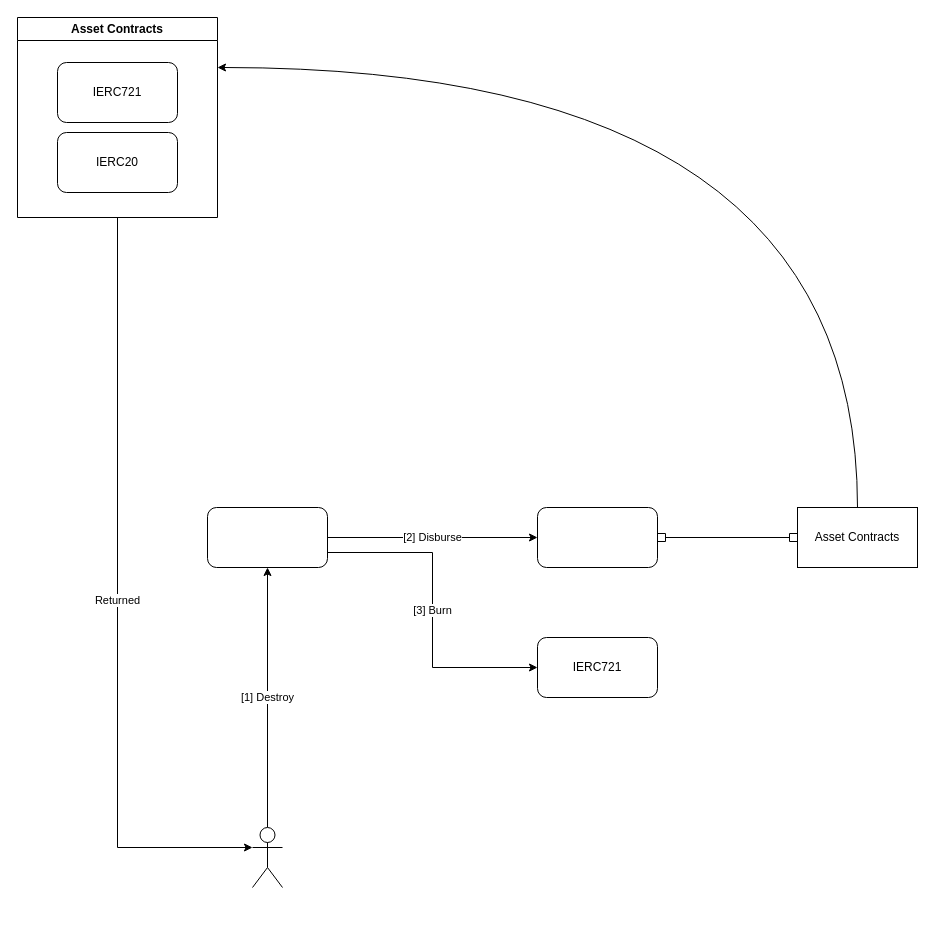
Image size: 935x926. Some labels were removed from this diagram. The shapes that lost their labels are listed below. From the top down, each one's centre as x and y in pixels, then its label:
point 267,537: Jewel Forge
point 597,537: IERC6551Account
point 267,857: Owner
